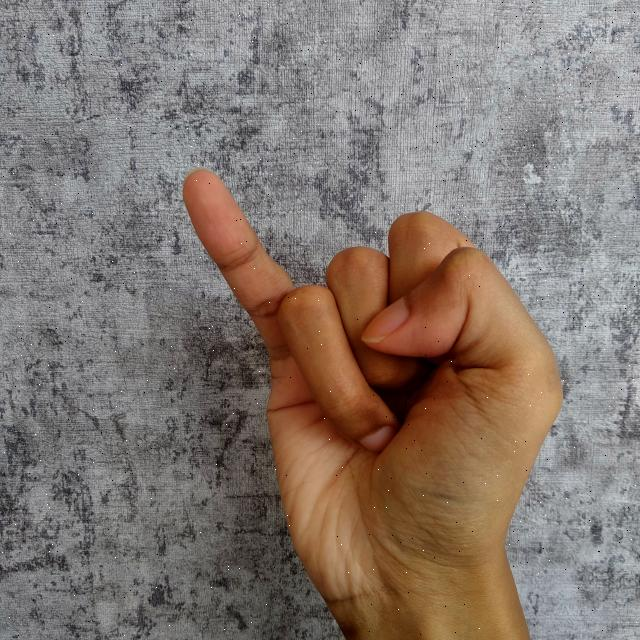I: (167, 155, 573, 640)
